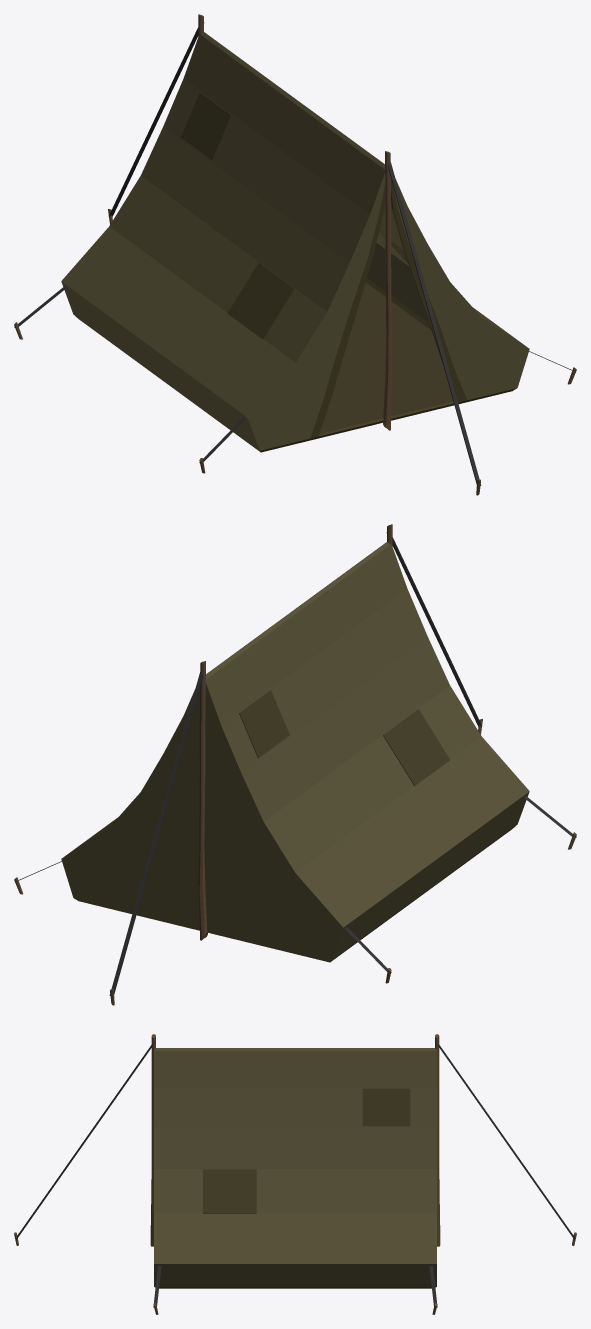
The model's file is village.glb.
3 renders of one model, top to bottom at view 1: azimuth 30°, elevation 25°; view 2: azimuth 150°, elevation 25°; view 3: azimuth 270°, elevation 25°, orthographic. The views are drawn at different scales.
Parts seen in each view (by area): view 1: Tent; view 2: Tent; view 3: Tent.
Part boxes in pixels (<box>): Tent: <box>14,14,576,495</box>; Tent: <box>14,524,576,1005</box>; Tent: <box>14,1034,576,1314</box>.
Bounding box in the file's own units: 14.58 × 12.23 × 24.87.
